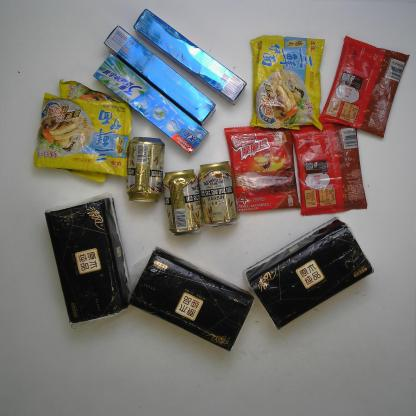Alcohol: (196, 158, 244, 230), (160, 166, 206, 238), (122, 134, 168, 205)
Dessert: (316, 33, 412, 140), (286, 116, 370, 218), (221, 123, 305, 214)
Instant Noodles: (29, 89, 135, 179), (51, 76, 132, 186), (248, 32, 329, 138)
Personal Hygiene: (91, 51, 211, 156), (101, 22, 219, 128), (130, 6, 249, 109)
Tissue: (239, 212, 376, 334), (124, 244, 260, 356), (40, 189, 139, 333)
